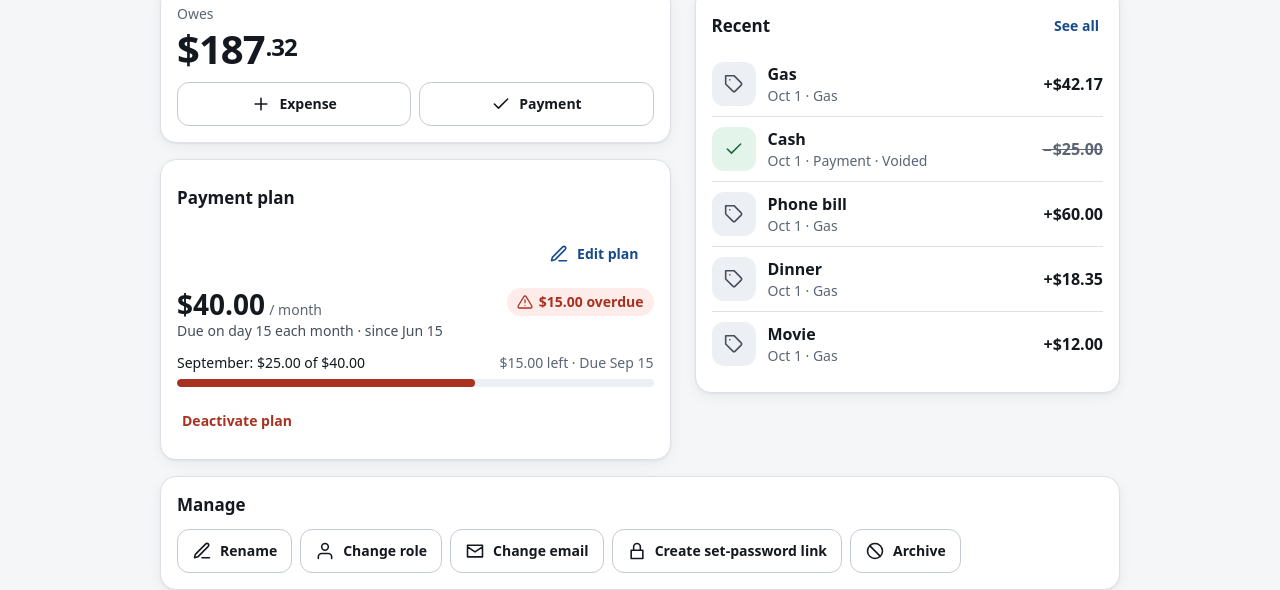
Scenario: FamilyMemberPage: payment plan editing › shows the replacement error and lets the Parent try again
This screenshot has width=1280, height=590.
Click the button "Edit plan": (594, 254) left=534, top=232, right=654, bottom=276
(page scrolled)
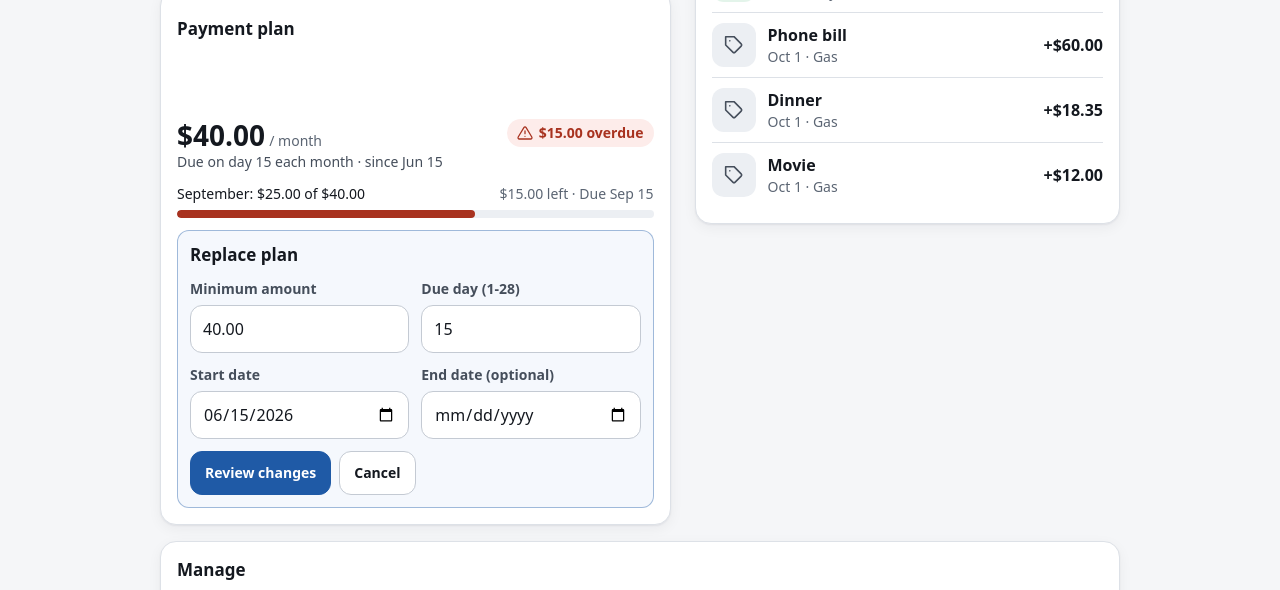
Click the button "Review changes": (261, 473) left=190, top=451, right=331, bottom=495
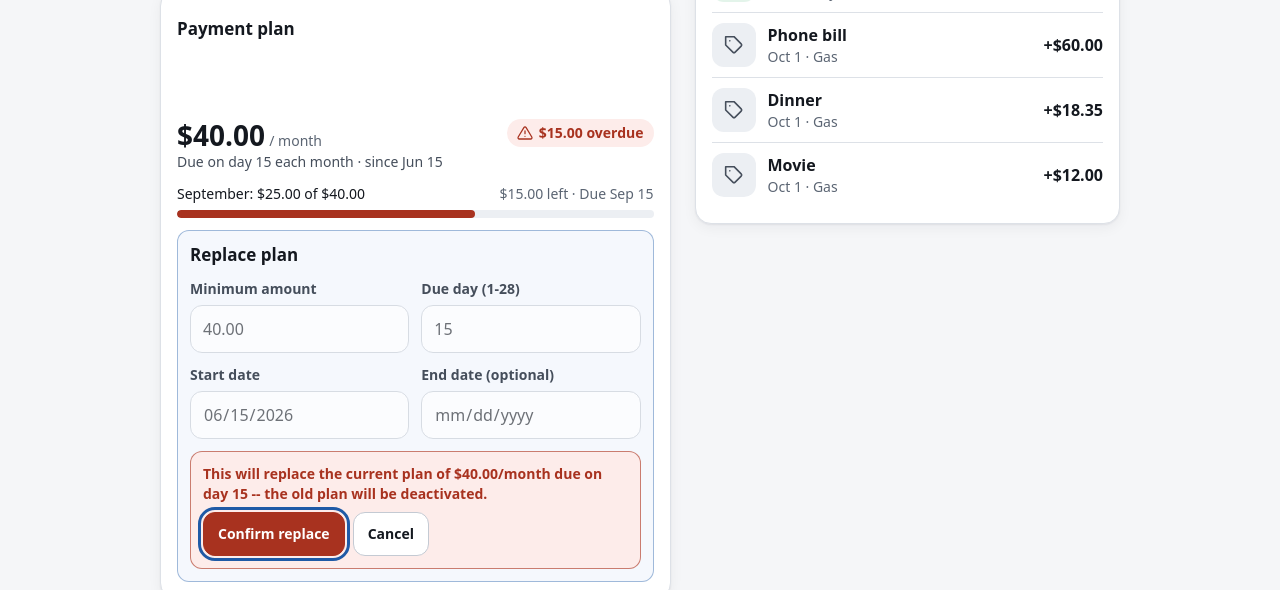
Click the button "Confirm replace": (274, 534) left=203, top=512, right=345, bottom=556
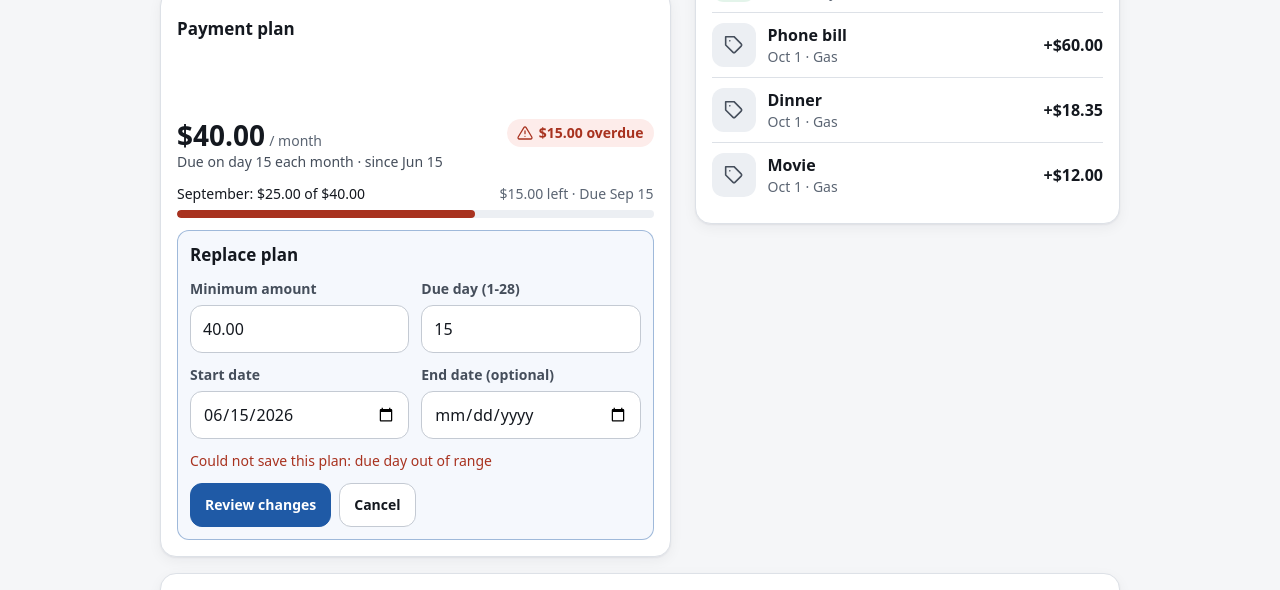
Now the message reads "Could not save this plan: due day out of range", box left=190, top=451, right=492, bottom=470
Now the button "Review changes" is shown, box left=190, top=483, right=331, bottom=527
